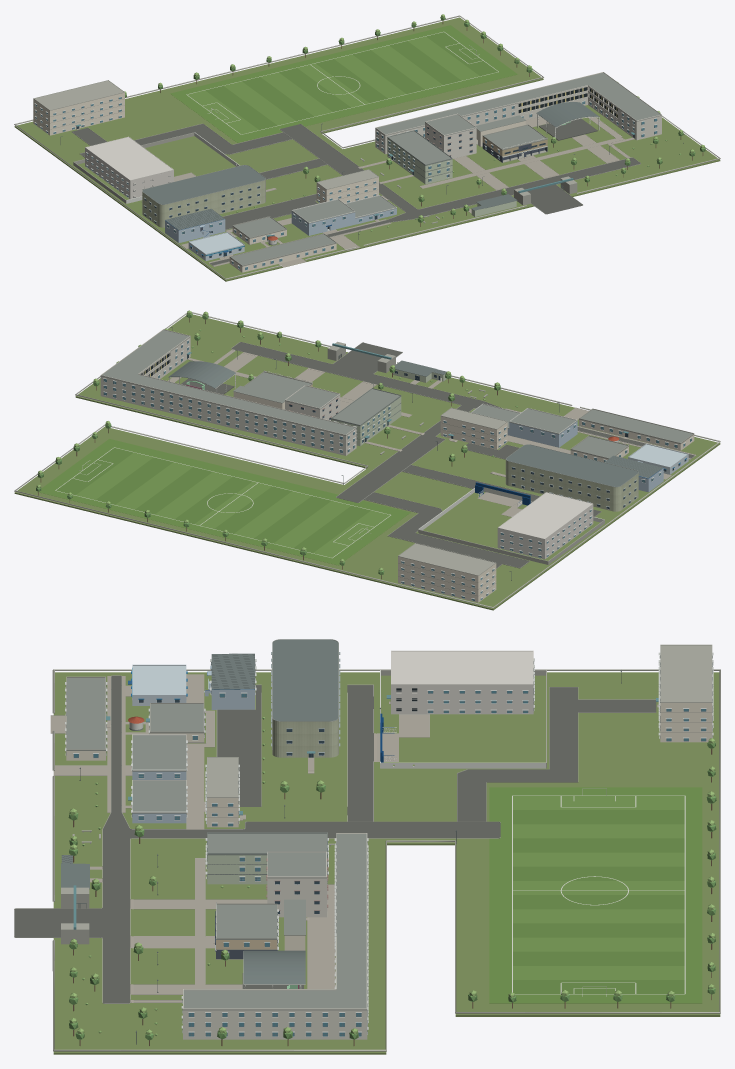
The model's file is MNMJEC_Campus_Stage_E4_Web.glb.
3 renders of one model, top to bottom at view 1: azimuth 30°, elevation 25°; view 2: azimuth 150°, elevation 25°; view 3: azimuth 270°, elevation 25°, orthographic. The views are drawn at different scales.
Visible parts, largest first — view 1: CAMPUS_TERRAIN_BASE, C_FOOTBALL_TURF_STRIPES, FOOTBALL_GROUND, ROAD_CENTRAL_AND_MAIN_ENTRANCE, L_SHAPE_BLOCK_ROOF, MECHANICAL_BLOCK_FLOOR_2, MNM_SCHOOL_OF_ARCHITECTURE_FLOOR_2, BOUNDARY_WALL_1, ROAD_HOSTEL_TO_GROUND, BOYS_HOSTEL_FLOOR_3, L_SHAPE_BLOCK_FLOOR_2, L_SHAPE_BLOCK_FLOOR_1 (+29 smaller); view 2: CAMPUS_TERRAIN_BASE, C_FOOTBALL_TURF_STRIPES, ROAD_CENTRAL_AND_MAIN_ENTRANCE, FOOTBALL_GROUND, L_SHAPE_BLOCK_ROOF, MECHANICAL_BLOCK_FLOOR_2, BOUNDARY_WALL_1, MNM_SCHOOL_OF_ARCHITECTURE_FLOOR_2, ROAD_HOSTEL_TO_GROUND, BOYS_HOSTEL_FLOOR_3, L_SHAPE_BLOCK_FLOOR_2, L_SHAPE_BLOCK_FLOOR_1 (+26 smaller); view 3: CAMPUS_TERRAIN_BASE, C_FOOTBALL_TURF_STRIPES, ROAD_CENTRAL_AND_MAIN_ENTRANCE, FOOTBALL_GROUND, L_SHAPE_BLOCK_ROOF, MECHANICAL_BLOCK_FLOOR_2, ROAD_HOSTEL_TO_GROUND, MNM_SCHOOL_OF_ARCHITECTURE_FLOOR_2, BOUNDARY_WALL_1, ROAD_WEST_CROSS_CAMPUS, BOYS_HOSTEL_FLOOR_3, ROAD_MECHANICAL_SOUTH (+34 smaller).
Boxes of the visible parts, <box> form: CAMPUS_TERRAIN_BASE: <box>14,17,720,281</box>; C_FOOTBALL_TURF_STRIPES: <box>187,32,497,134</box>; FOOTBALL_GROUND: <box>170,25,517,142</box>; ROAD_CENTRAL_AND_MAIN_ENTRANCE: <box>210,124,640,265</box>; L_SHAPE_BLOCK_ROOF: <box>375,72,661,135</box>; MECHANICAL_BLOCK_FLOOR_2: <box>142,165,265,212</box>; MNM_SCHOOL_OF_ARCHITECTURE_FLOOR_2: <box>85,137,173,186</box>; BOUNDARY_WALL_1: <box>14,15,720,279</box>; ROAD_HOSTEL_TO_GROUND: <box>72,124,291,157</box>; BOYS_HOSTEL_FLOOR_3: <box>33,80,124,116</box>; L_SHAPE_BLOCK_FLOOR_2: <box>375,86,661,141</box>; L_SHAPE_BLOCK_FLOOR_1: <box>375,92,661,148</box>; CAMPUS_TERRAIN_BASE: <box>14,314,720,610</box>; C_FOOTBALL_TURF_STRIPES: <box>56,447,390,557</box>; ROAD_CENTRAL_AND_MAIN_ENTRANCE: <box>232,342,694,502</box>; FOOTBALL_GROUND: <box>37,439,410,565</box>; L_SHAPE_BLOCK_ROOF: <box>101,330,356,435</box>; MECHANICAL_BLOCK_FLOOR_2: <box>505,444,638,495</box>; BOUNDARY_WALL_1: <box>14,312,720,608</box>; MNM_SCHOOL_OF_ARCHITECTURE_FLOOR_2: <box>497,492,593,545</box>; ROAD_HOSTEL_TO_GROUND: <box>364,492,529,568</box>; BOYS_HOSTEL_FLOOR_3: <box>398,543,496,582</box>; L_SHAPE_BLOCK_FLOOR_2: <box>100,337,356,442</box>; L_SHAPE_BLOCK_FLOOR_1: <box>100,344,356,449</box>; CAMPUS_TERRAIN_BASE: <box>53,672,720,1054</box>; C_FOOTBALL_TURF_STRIPES: <box>513,796,684,993</box>; ROAD_CENTRAL_AND_MAIN_ENTRANCE: <box>14,676,500,1003</box>; FOOTBALL_GROUND: <box>489,787,702,1003</box>; L_SHAPE_BLOCK_ROOF: <box>183,834,366,1010</box>; MECHANICAL_BLOCK_FLOOR_2: <box>272,639,338,733</box>; ROAD_HOSTEL_TO_GROUND: <box>457,687,656,821</box>; MNM_SCHOOL_OF_ARCHITECTURE_FLOOR_2: <box>391,651,533,694</box>; BOUNDARY_WALL_1: <box>52,669,720,1051</box>; ROAD_WEST_CROSS_CAMPUS: <box>347,685,373,821</box>; BOYS_HOSTEL_FLOOR_3: <box>660,645,712,712</box>; ROAD_MECHANICAL_SOUTH: <box>217,685,261,806</box>.
Bounding box in the file's own units: 274 × 14.27 × 214.
Materials: 45 (2 with a texture image).
